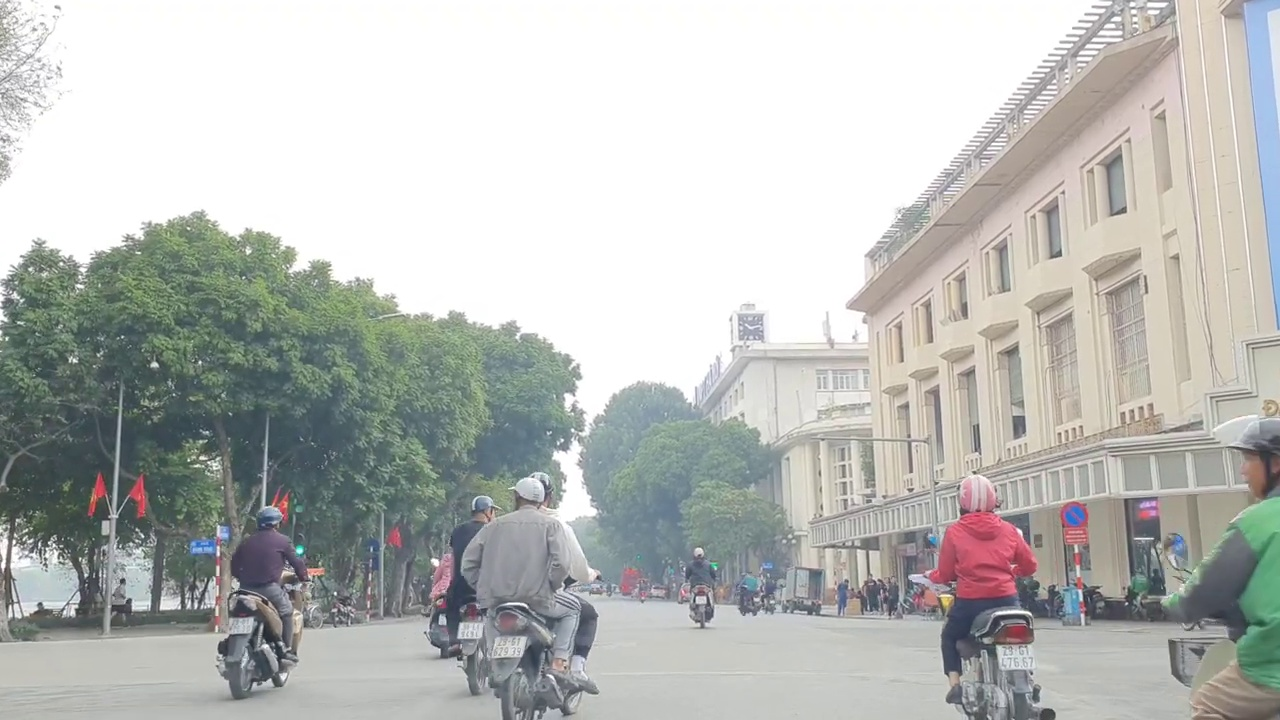vehicle-plate: (996, 641, 1039, 670), (492, 635, 528, 660), (225, 615, 256, 635), (458, 624, 485, 642)
